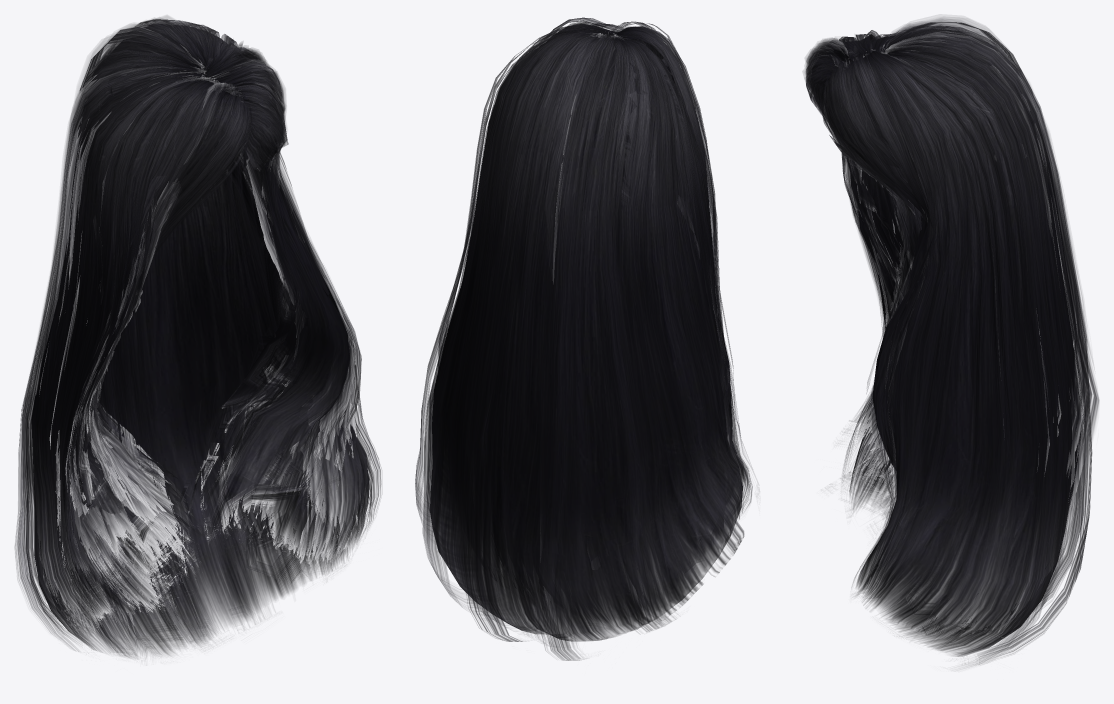
Rendered from alyson-black-hair.glb.
3 renders of one model, left to right at view 1: azimuth 30°, elevation 25°; view 2: azimuth 150°, elevation 25°; view 3: azimuth 270°, elevation 25°, orthographic. The views are drawn at different scales.
Parts seen in each view (by area): view 1: Object_3, Object_4, Object_2; view 2: Object_3, Object_4, Object_2; view 3: Object_4, Object_3, Object_2.
Part boxes in pixels (x1=…): Object_3: x1=32, y1=23, x2=369, y2=657; Object_4: x1=15, y1=19, x2=381, y2=655; Object_2: x1=22, y1=16, x2=356, y2=561; Object_3: x1=430, y1=24, x2=748, y2=641; Object_4: x1=415, y1=17, x2=752, y2=660; Object_2: x1=480, y1=29, x2=638, y2=566; Object_4: x1=806, y1=22, x2=1092, y2=664; Object_3: x1=810, y1=29, x2=1082, y2=656; Object_2: x1=803, y1=16, x2=1099, y2=538.
Bounding box in the file's own units: 0.1596 × 0.3043 × 0.129.
3 materials, 3 textured.
